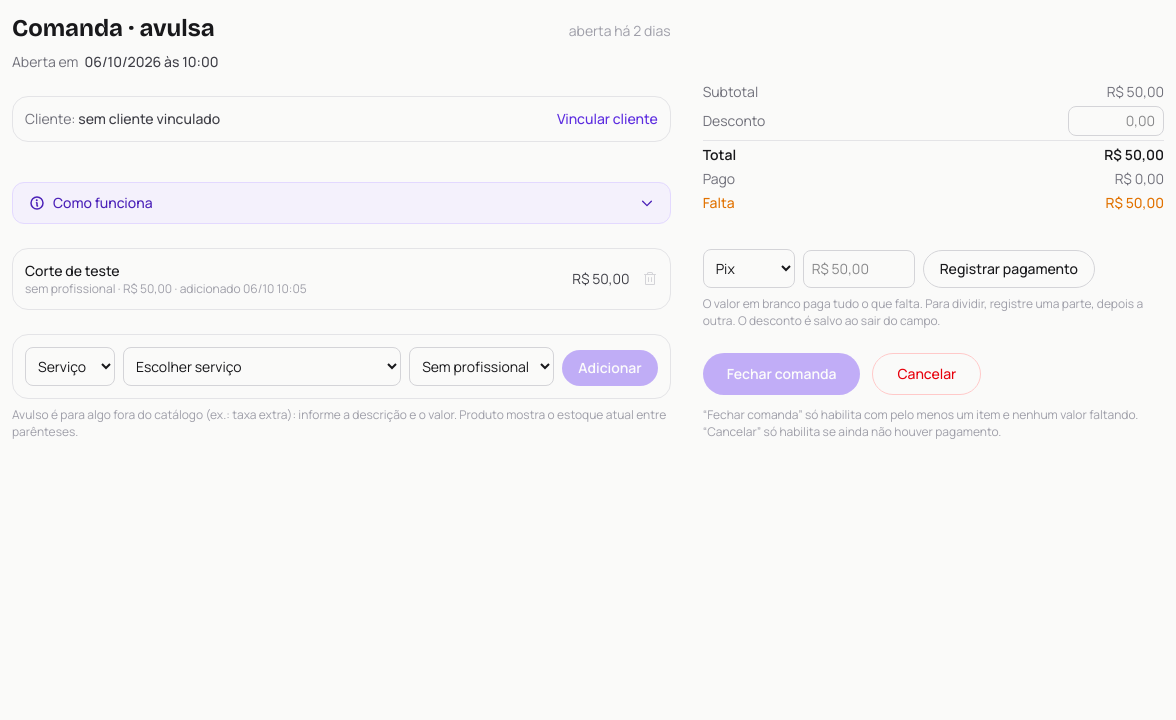
TicketPdv › erro do servidor ao vincular aparece na tela
Click the button "Vincular cliente": (607, 119) [557,109,658,129]
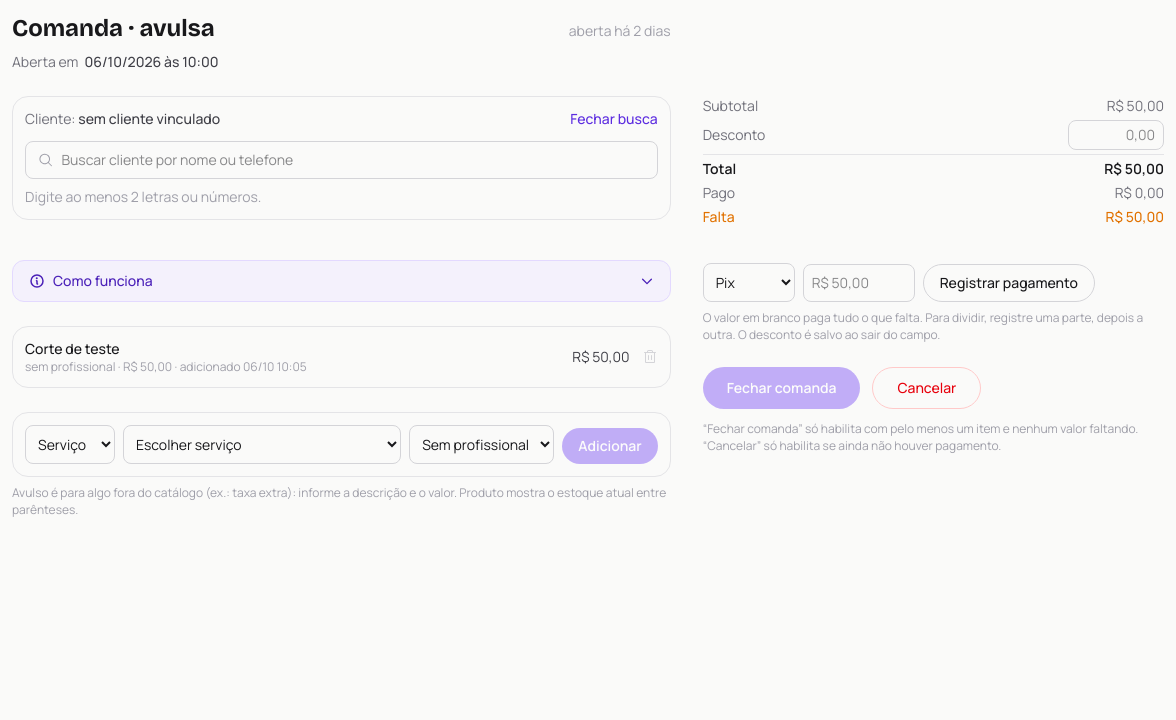
In the field labelled "Buscar cliente": (353, 160) [61,150,645,170], type "carla"
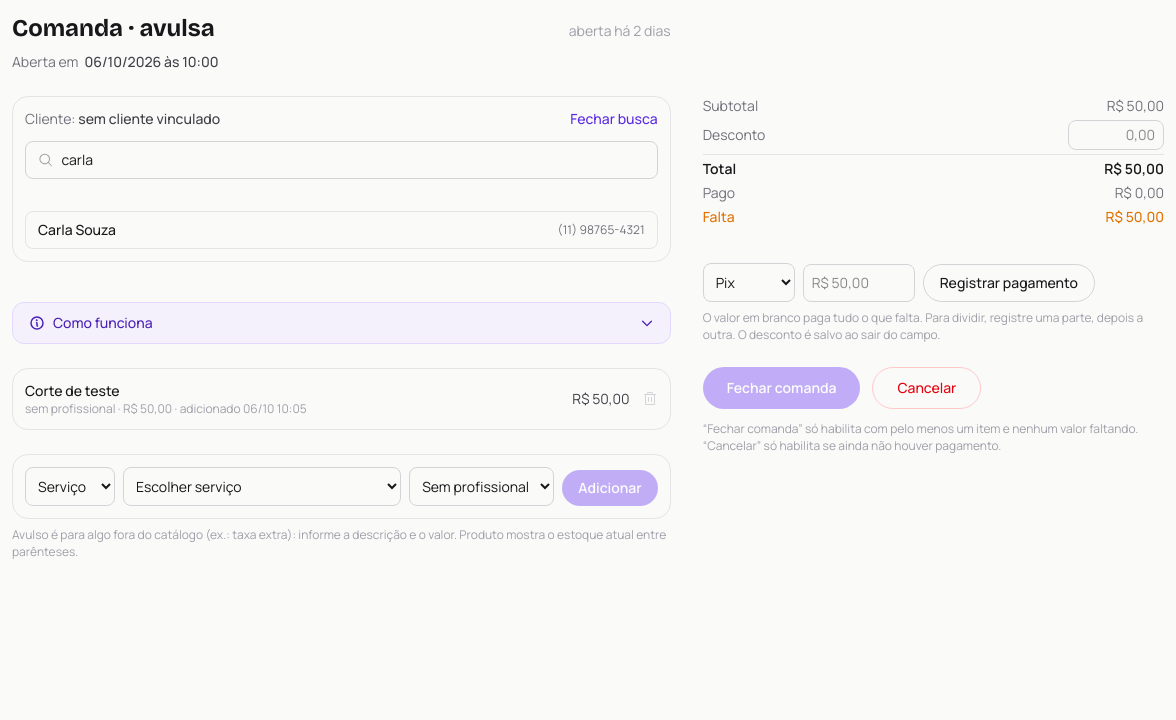
Click the button "Carla Souza (11) 98765-4321": (77, 230) [26,212,657,248]
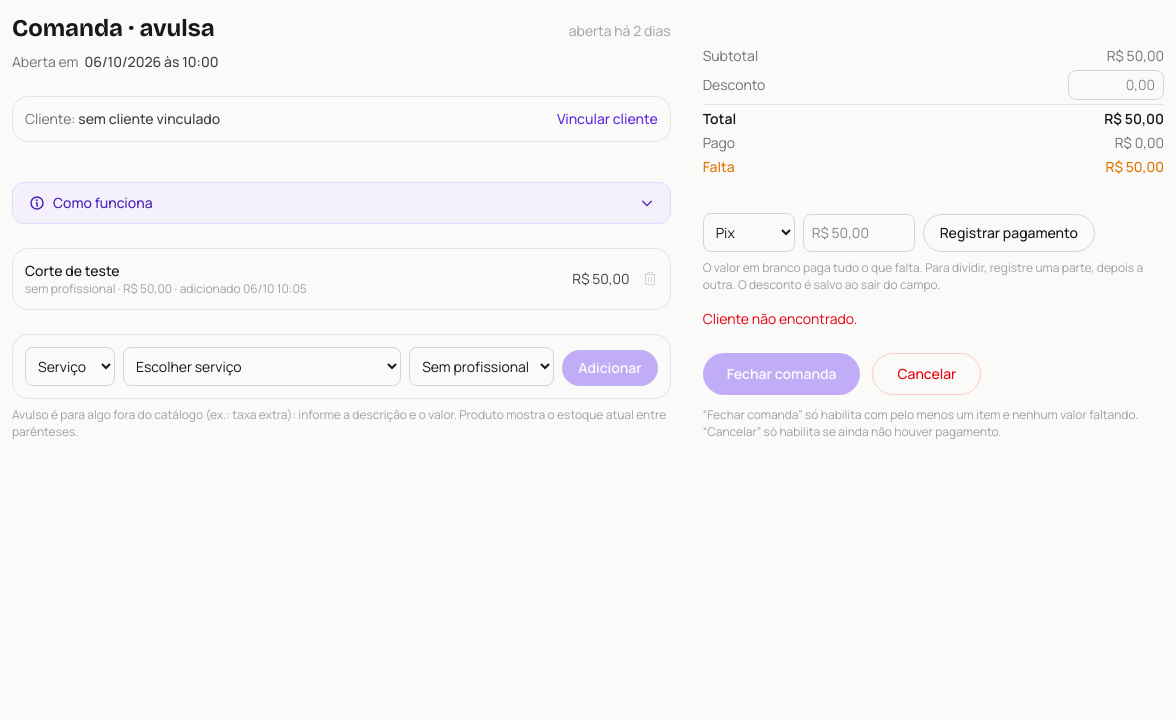
Check: the text "Cliente não encontrado." is shown, box [703,309,857,328]
